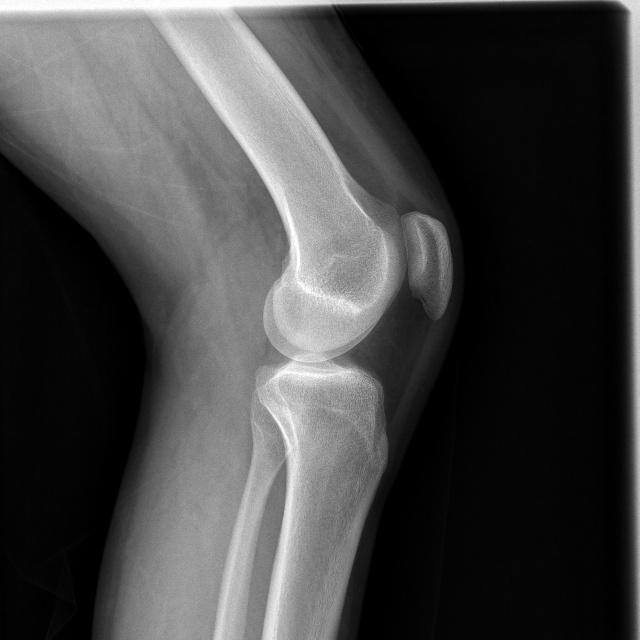Knee: (246, 194, 455, 437)
